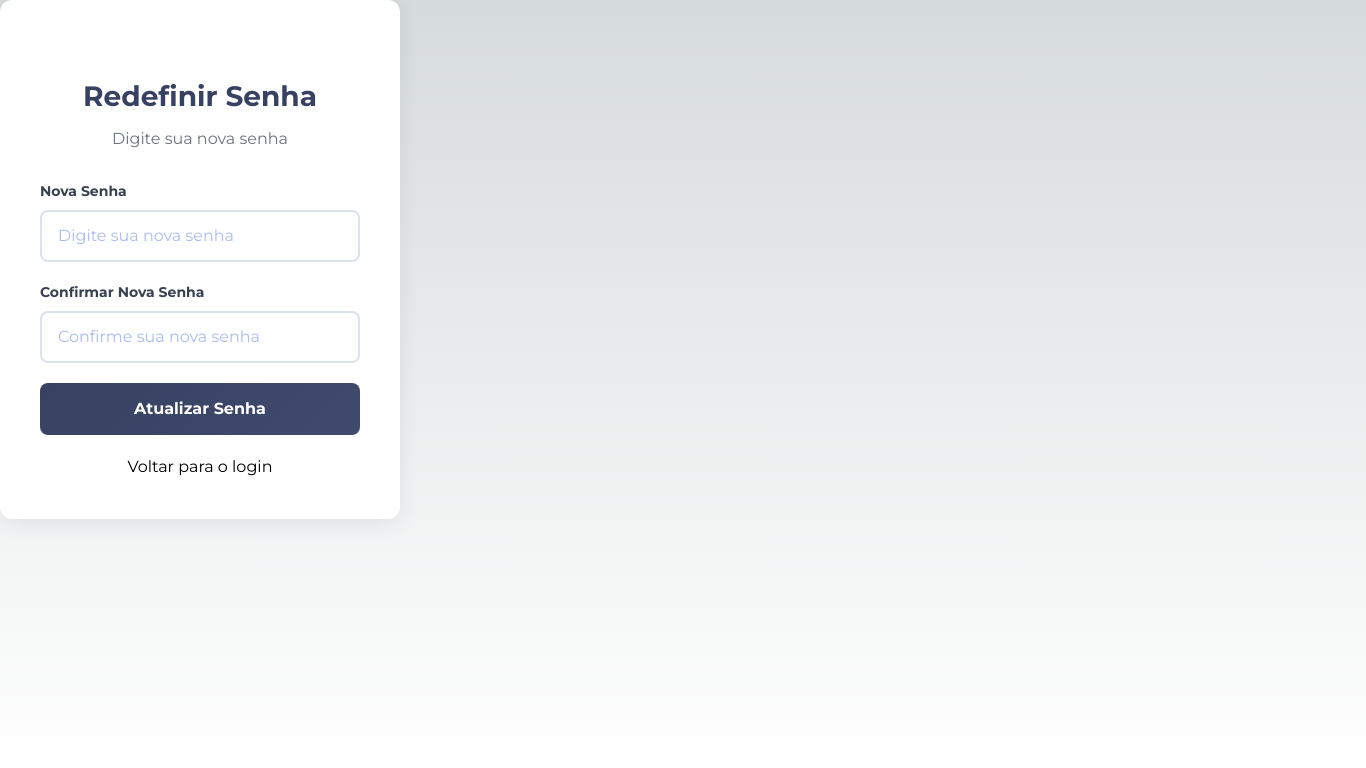
Scenario: ResetPasswordPage › deve validar senha mínima de 6 caracteres
Type "123" into the password field labelled "Nova Senha" at x=200, y=236, box [40,210,360,262]
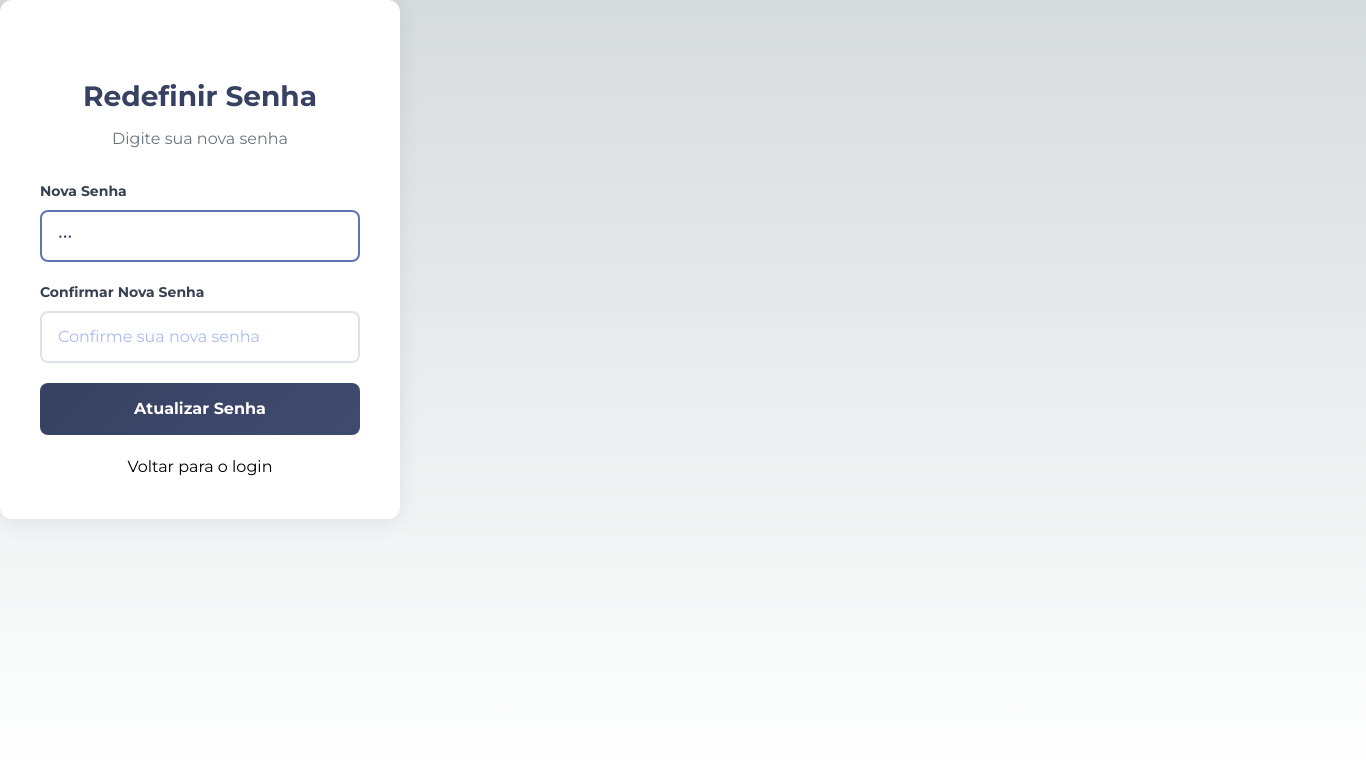
Type "123" into the password field labelled "Confirmar Nova Senha" at x=200, y=337, box [40,311,360,363]
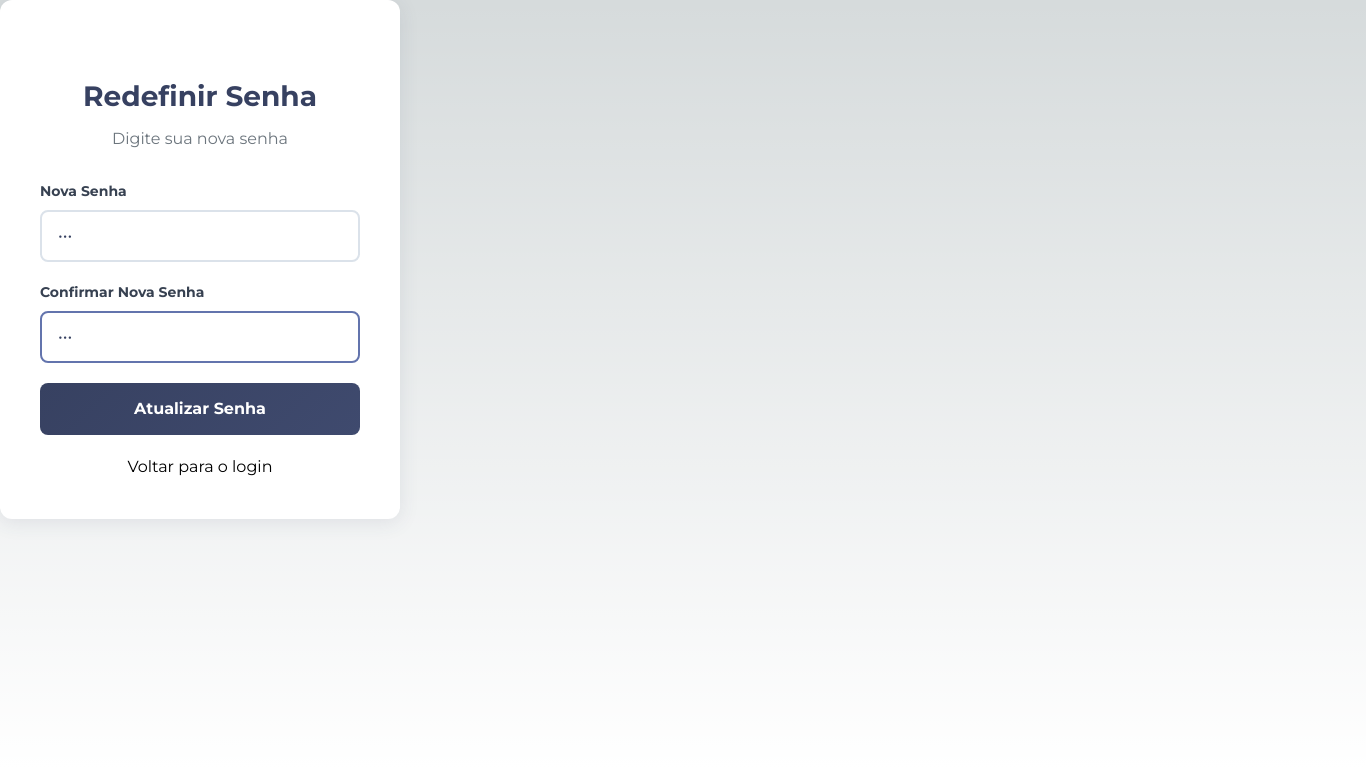
Click the button "Atualizar Senha" at x=200, y=409, box [40,383,360,435]
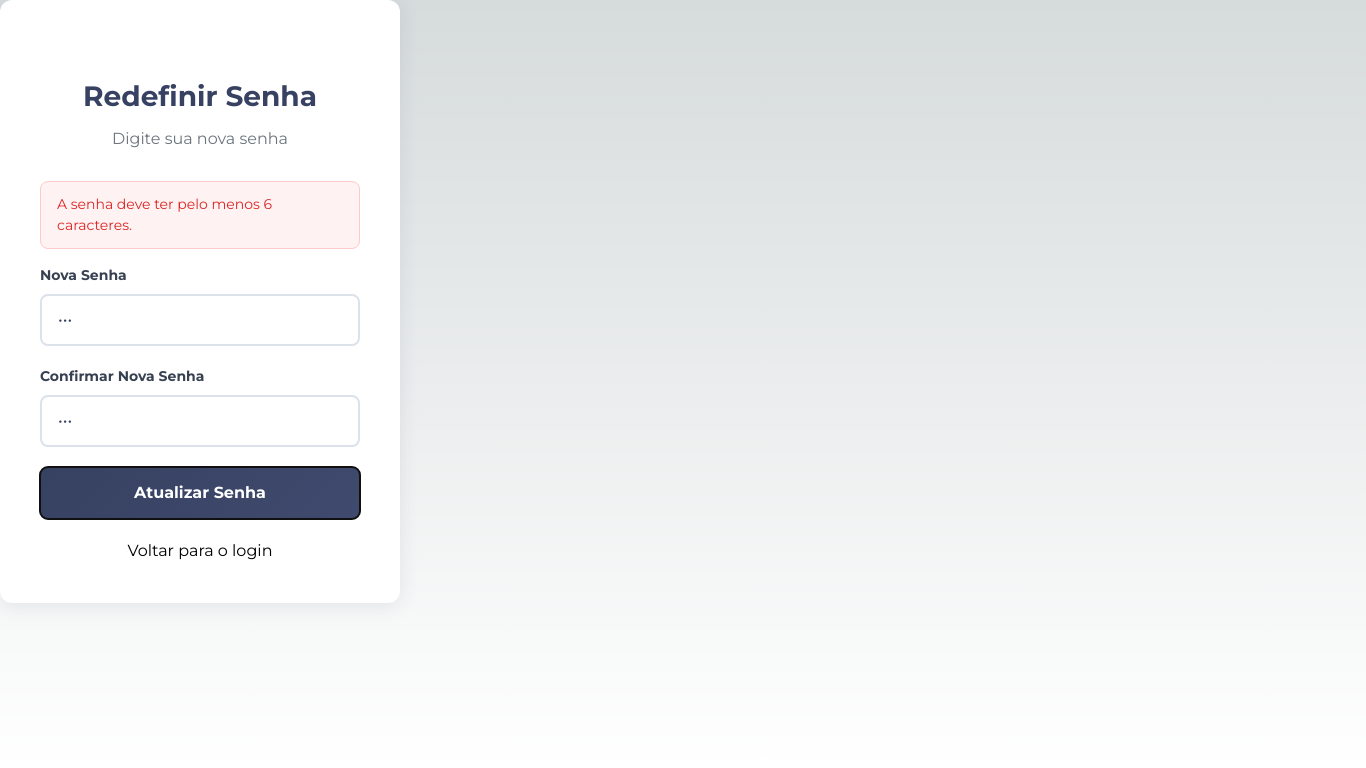
Expected: the text "A senha deve ter pelo menos 6 caracteres." is shown, [40,181,360,249]
